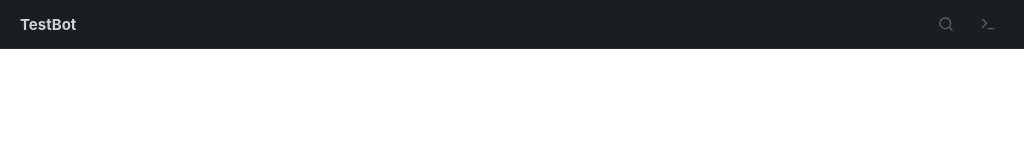
Test: ChatArea › when agent is ready › search functionality › navigates to previous match on Shift+Enter
Step 1. Press f
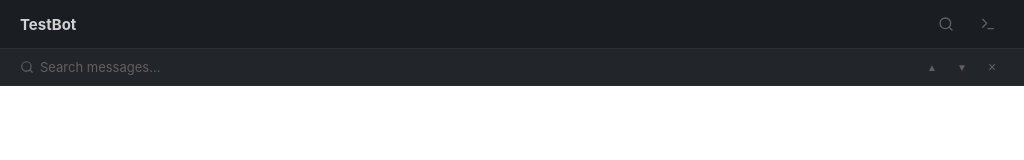
Step 2. Type "Hello" into the field with placeholder "Search messages…" → (477, 67), box [40,59,914,75]
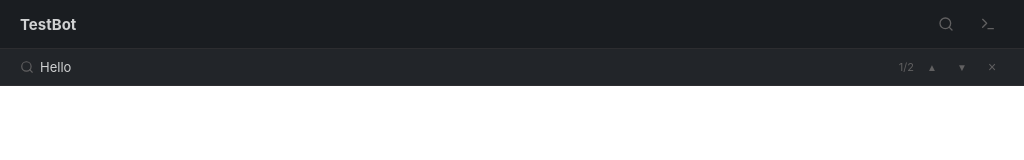
Note: Go to second match first
Step 3. Press Enter in the field with placeholder "Search messages…", box [40,59,893,75]
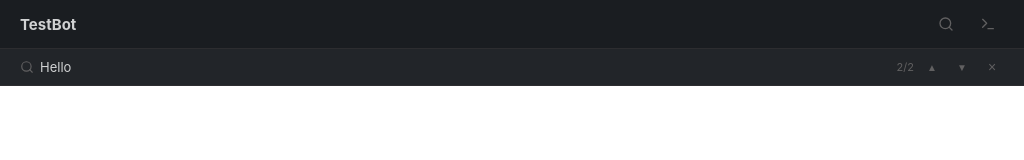
Now the text "2/2" is shown, box [897,60,914,74]
Note: Go back with Shift+Enter
Step 4. Press Enter in the field with placeholder "Search messages…", box [40,59,891,75]
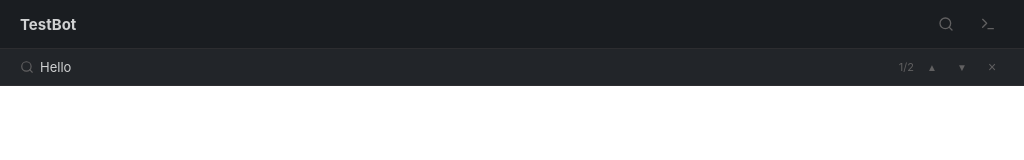
Now the text "1/2" is shown, box [899,60,914,74]
